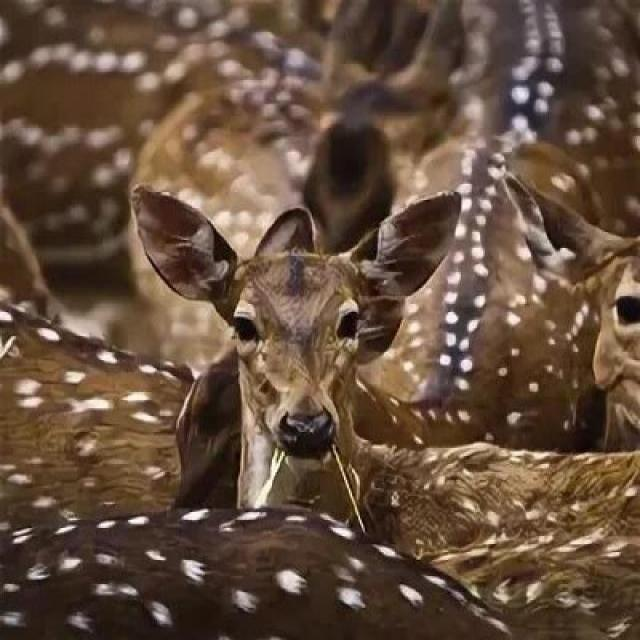deer: (102, 131, 640, 629)
